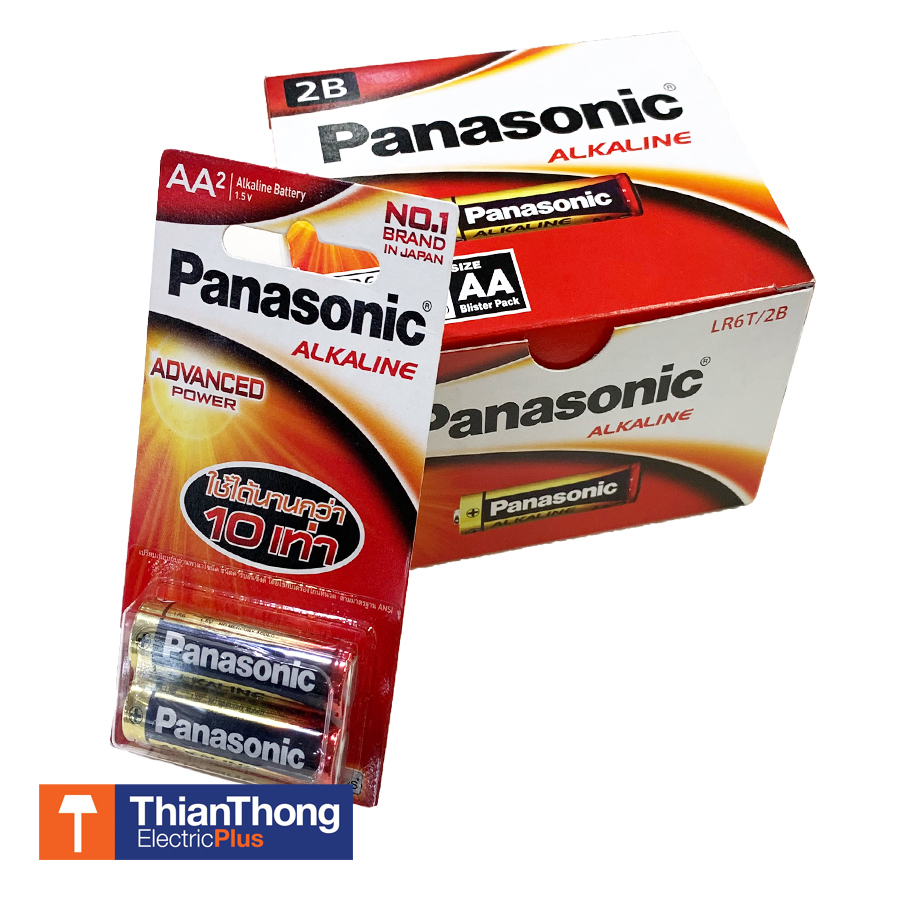Battery: (121, 602, 354, 722), (114, 677, 343, 788)
